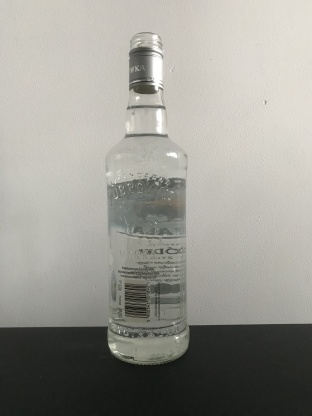nakretka: (126, 29, 165, 94)
